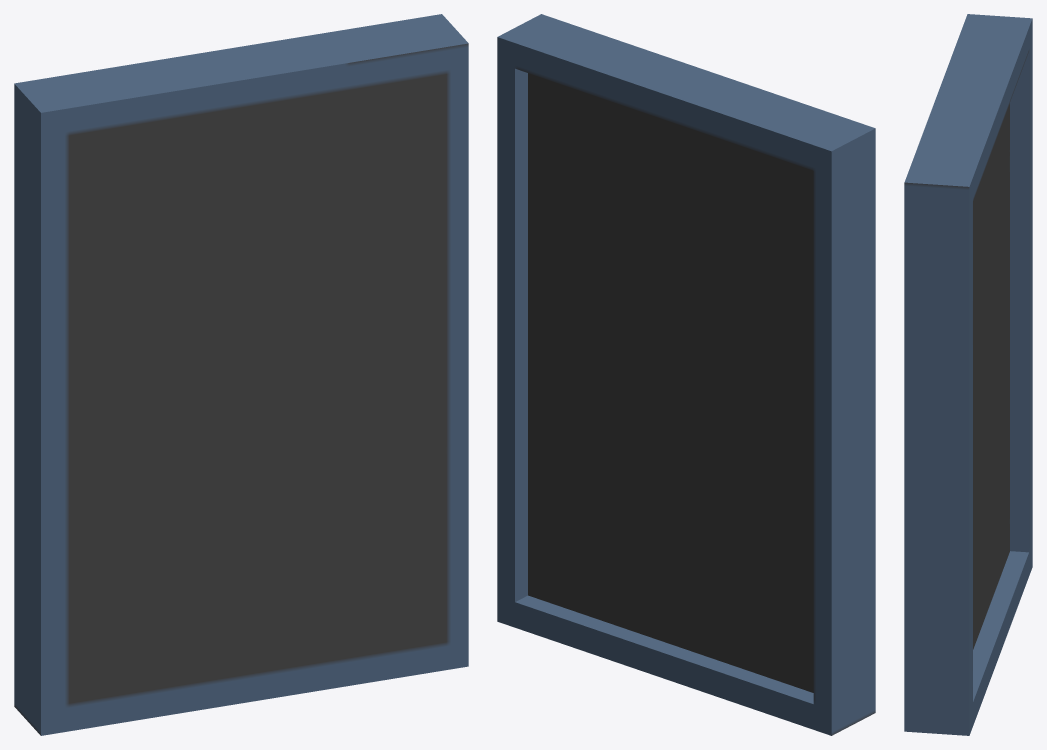
File: keypad.fbx
The picture shows the model from 3 angles, left to right: view 1: azimuth 30°, elevation 25°; view 2: azimuth 150°, elevation 25°; view 3: azimuth 270°, elevation 25°; orthographic projection. The views are drawn at different scales.
Visible parts, largest first — view 1: pCube1; view 2: pCube1; view 3: pCube1.
Part boxes in pixels (left/top/right/bottom): pCube1: left=14, top=14, right=468, bottom=735; pCube1: left=497, top=14, right=875, bottom=735; pCube1: left=904, top=14, right=1032, bottom=735.
Size of the model in its own units: 10.13 by 15 by 3.17.
